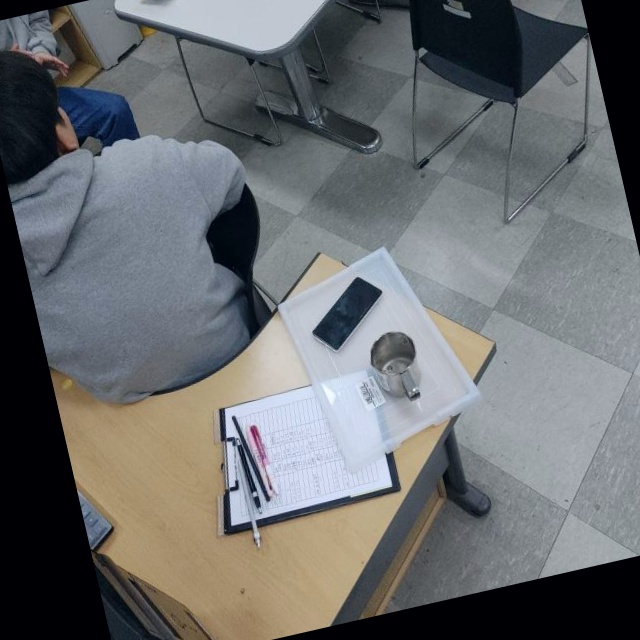cup: (366, 325, 429, 410)
phone: (301, 272, 394, 359)
